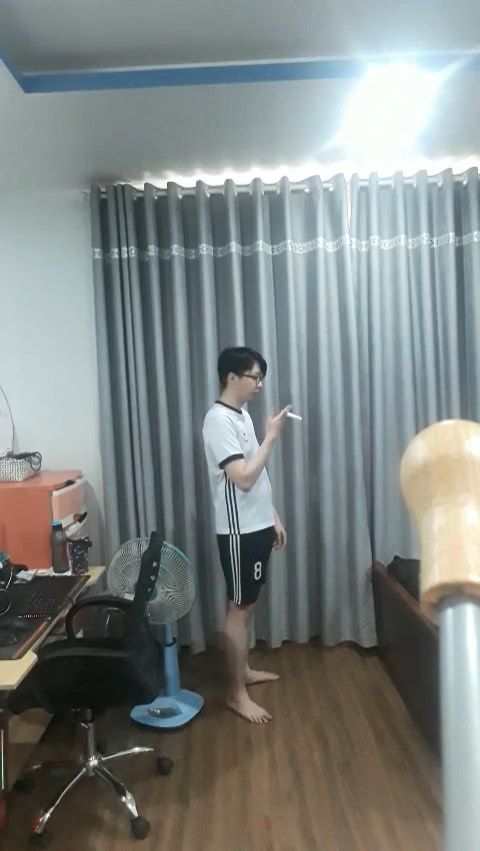cigarette: (287, 412, 302, 419)
person: (185, 339, 294, 726)
